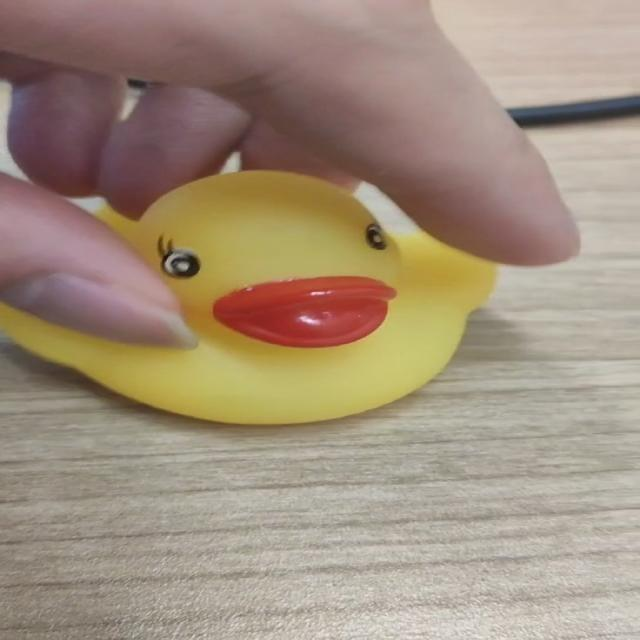rubber-duck: (0, 170, 494, 422)
